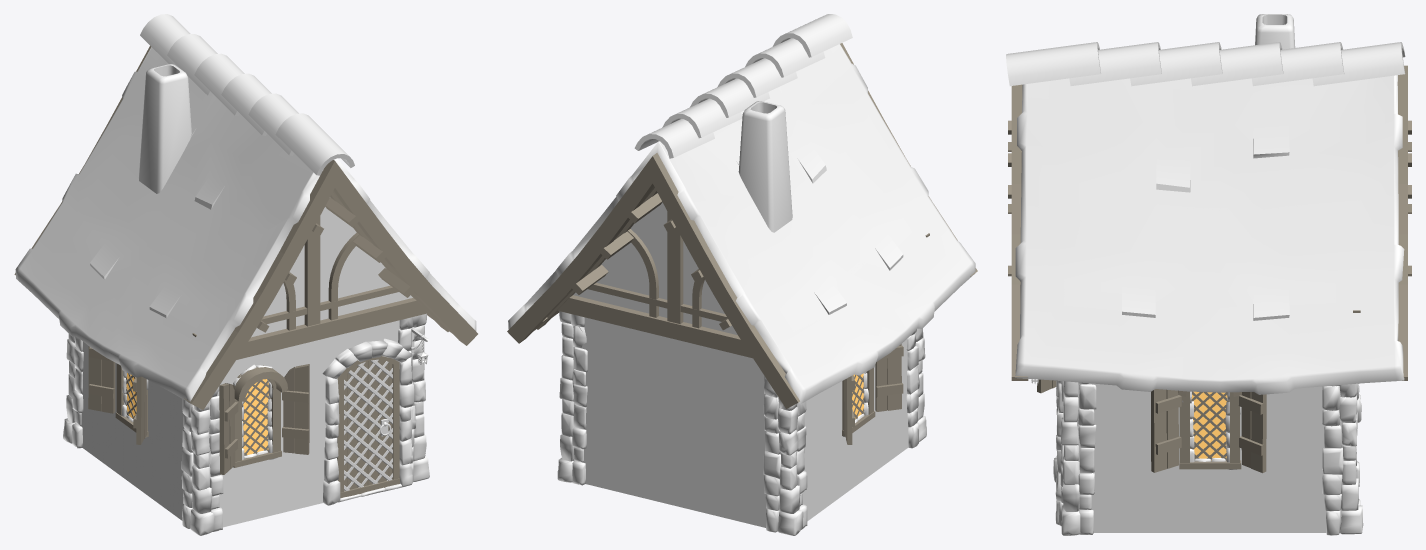
Rendered from icemantle_trapper_home.glb.
The picture shows the model from 3 angles, left to right: view 1: azimuth 30°, elevation 25°; view 2: azimuth 150°, elevation 25°; view 3: azimuth 270°, elevation 25°; orthographic projection. The views are drawn at different scales.
Visible parts, largest first — view 1: village/MI_FlatTiles, village/MI_UnevenBrick, village/MI_WoodTrim, village/MI_RockTrim, village/MI_WoodTrim_Wear, village/MI_RoundTiles, village/MI_MetalOrnaments, village/MI_WindowGlass; view 2: village/MI_FlatTiles, village/MI_UnevenBrick, village/MI_WoodTrim, village/MI_RockTrim, village/MI_RoundTiles, village/MI_WoodTrim_Wear; view 3: village/MI_FlatTiles, village/MI_UnevenBrick, village/MI_RoundTiles, village/MI_RockTrim, village/MI_WoodTrim, village/MI_WoodTrim_Wear, village/MI_WindowGlass.
Part boxes in pixels (left/top/right/bottom): village/MI_FlatTiles: left=15, top=47, right=476, bottom=403; village/MI_UnevenBrick: left=76, top=64, right=422, bottom=527; village/MI_WoodTrim: left=14, top=46, right=477, bottom=455; village/MI_RockTrim: left=63, top=313, right=429, bottom=535; village/MI_WoodTrim_Wear: left=88, top=346, right=399, bottom=498; village/MI_RoundTiles: left=140, top=14, right=354, bottom=175; village/MI_MetalOrnaments: left=344, top=359, right=392, bottom=491; village/MI_WindowGlass: left=126, top=373, right=268, bottom=454; village/MI_FlatTiles: left=508, top=44, right=975, bottom=404; village/MI_UnevenBrick: left=563, top=101, right=908, bottom=527; village/MI_WoodTrim: left=507, top=43, right=977, bottom=419; village/MI_RockTrim: left=557, top=311, right=926, bottom=535; village/MI_RoundTiles: left=634, top=14, right=852, bottom=158; village/MI_WoodTrim_Wear: left=842, top=344, right=903, bottom=444; village/MI_FlatTiles: left=1015, top=75, right=1404, bottom=394; village/MI_UnevenBrick: left=1065, top=14, right=1354, bottom=532; village/MI_RoundTiles: left=1006, top=42, right=1405, bottom=86; village/MI_RockTrim: left=1053, top=381, right=1363, bottom=535; village/MI_WoodTrim: left=1008, top=65, right=1411, bottom=460; village/MI_WoodTrim_Wear: left=1037, top=379, right=1266, bottom=473; village/MI_WindowGlass: left=1190, top=391, right=1227, bottom=460.
Size of the model in its own units: 5.53 by 6.53 by 5.62.
